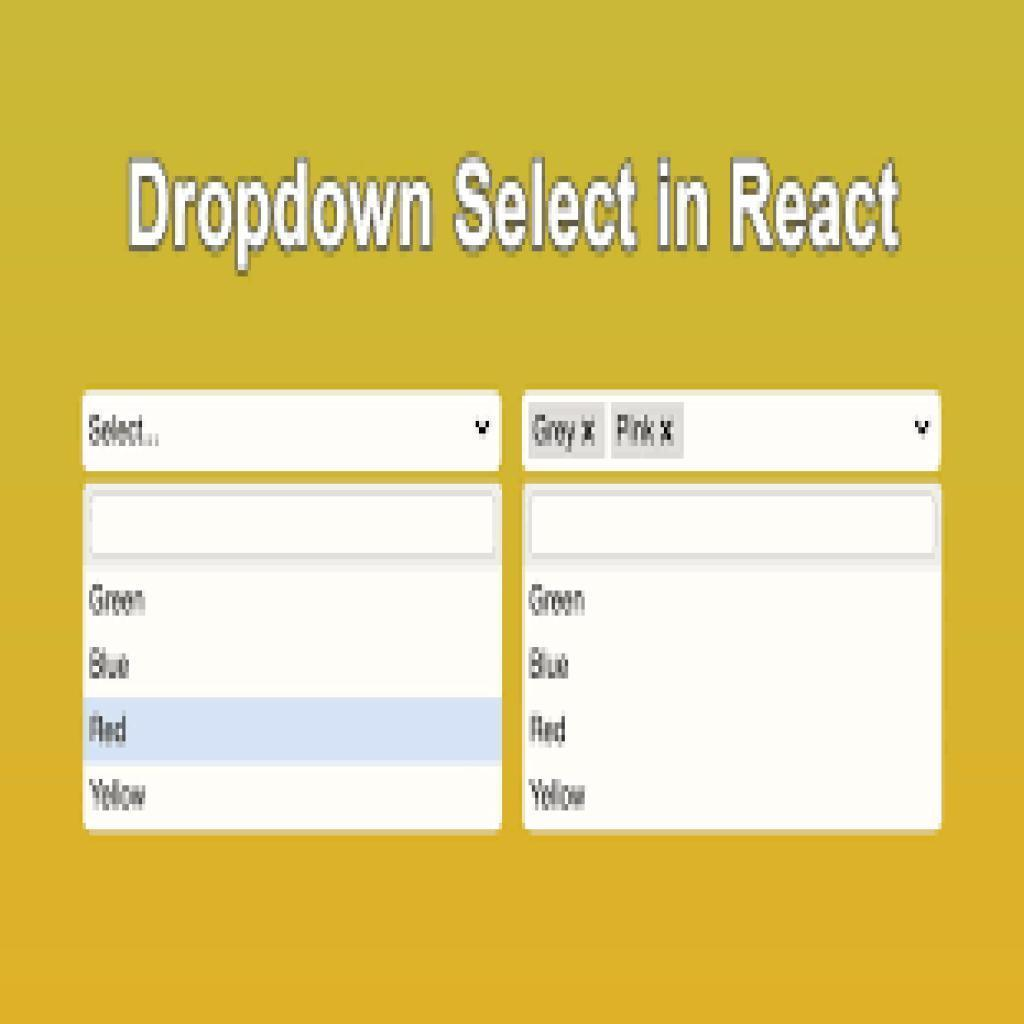button: (82, 697, 500, 764)
dropdown: (520, 387, 943, 473), (79, 389, 504, 473)
input: (528, 490, 936, 559), (89, 491, 496, 558)
